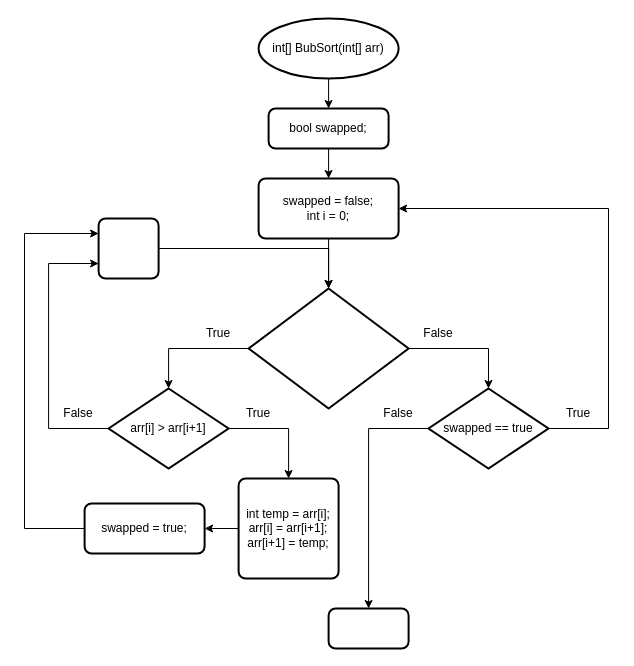
Some shapes in this 634 by 666 pixel diagram are drawn without their labels. Here are the shapes that lost their labels. From the top down, the centre of each, then its label:
At point (128, 248): "i++;".
At point (328, 348): "i < arr.Length - 1".
At point (368, 628): "return arr;".
